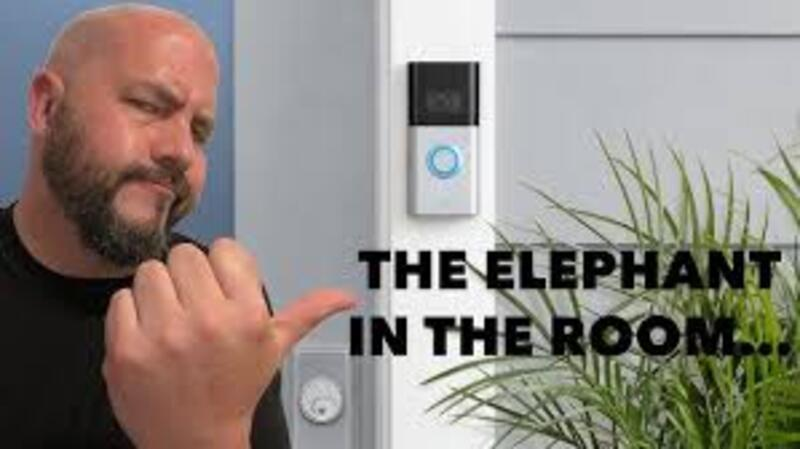doorbell: (406, 57, 476, 218)
